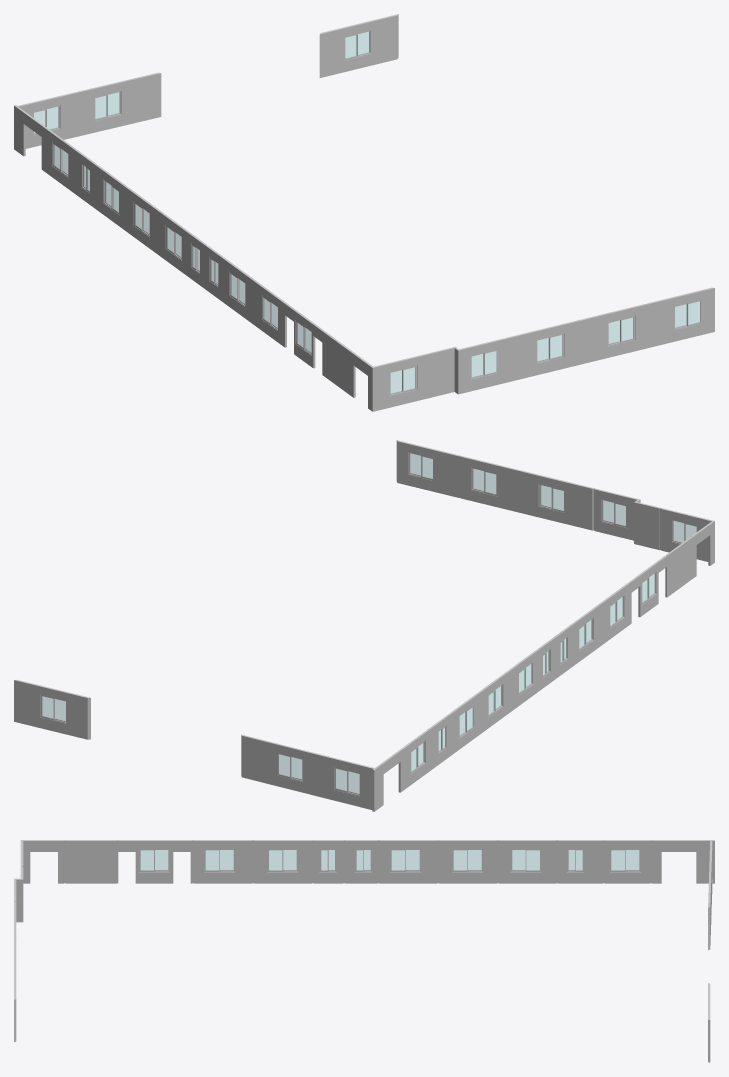
The model's file is Oregon_Walls_Windows.fbx.
3 views of the same model, one above another, from view 1: azimuth 30°, elevation 25°; view 2: azimuth 150°, elevation 25°; view 3: azimuth 270°, elevation 25° (orthographic). The views are drawn at different scales.
Parts seen in each view (by area): view 1: Walls-Finish Components, Glass_2, Windows, Walls-Structure Components; view 2: Walls-Finish Components, Glass_2, Windows, Walls-Structure Components; view 3: Walls-Finish Components, Glass_2, Windows, Walls-Structure Components.
Boxes of the visible parts, bbox=[...] form: Walls-Finish Components: bbox=[14, 14, 714, 411]; Glass_2: bbox=[34, 31, 699, 393]; Windows: bbox=[32, 30, 701, 395]; Walls-Structure Components: bbox=[15, 14, 712, 367]; Walls-Finish Components: bbox=[14, 440, 714, 811]; Glass_2: bbox=[42, 453, 696, 793]; Windows: bbox=[40, 451, 697, 795]; Walls-Structure Components: bbox=[15, 440, 713, 776]; Walls-Finish Components: bbox=[14, 840, 714, 1062]; Glass_2: bbox=[140, 850, 639, 870]; Windows: bbox=[139, 849, 640, 872]; Walls-Structure Components: bbox=[14, 840, 714, 1062].
Size of the model in its own units: 24.61 by 2.7 by 40.42.
